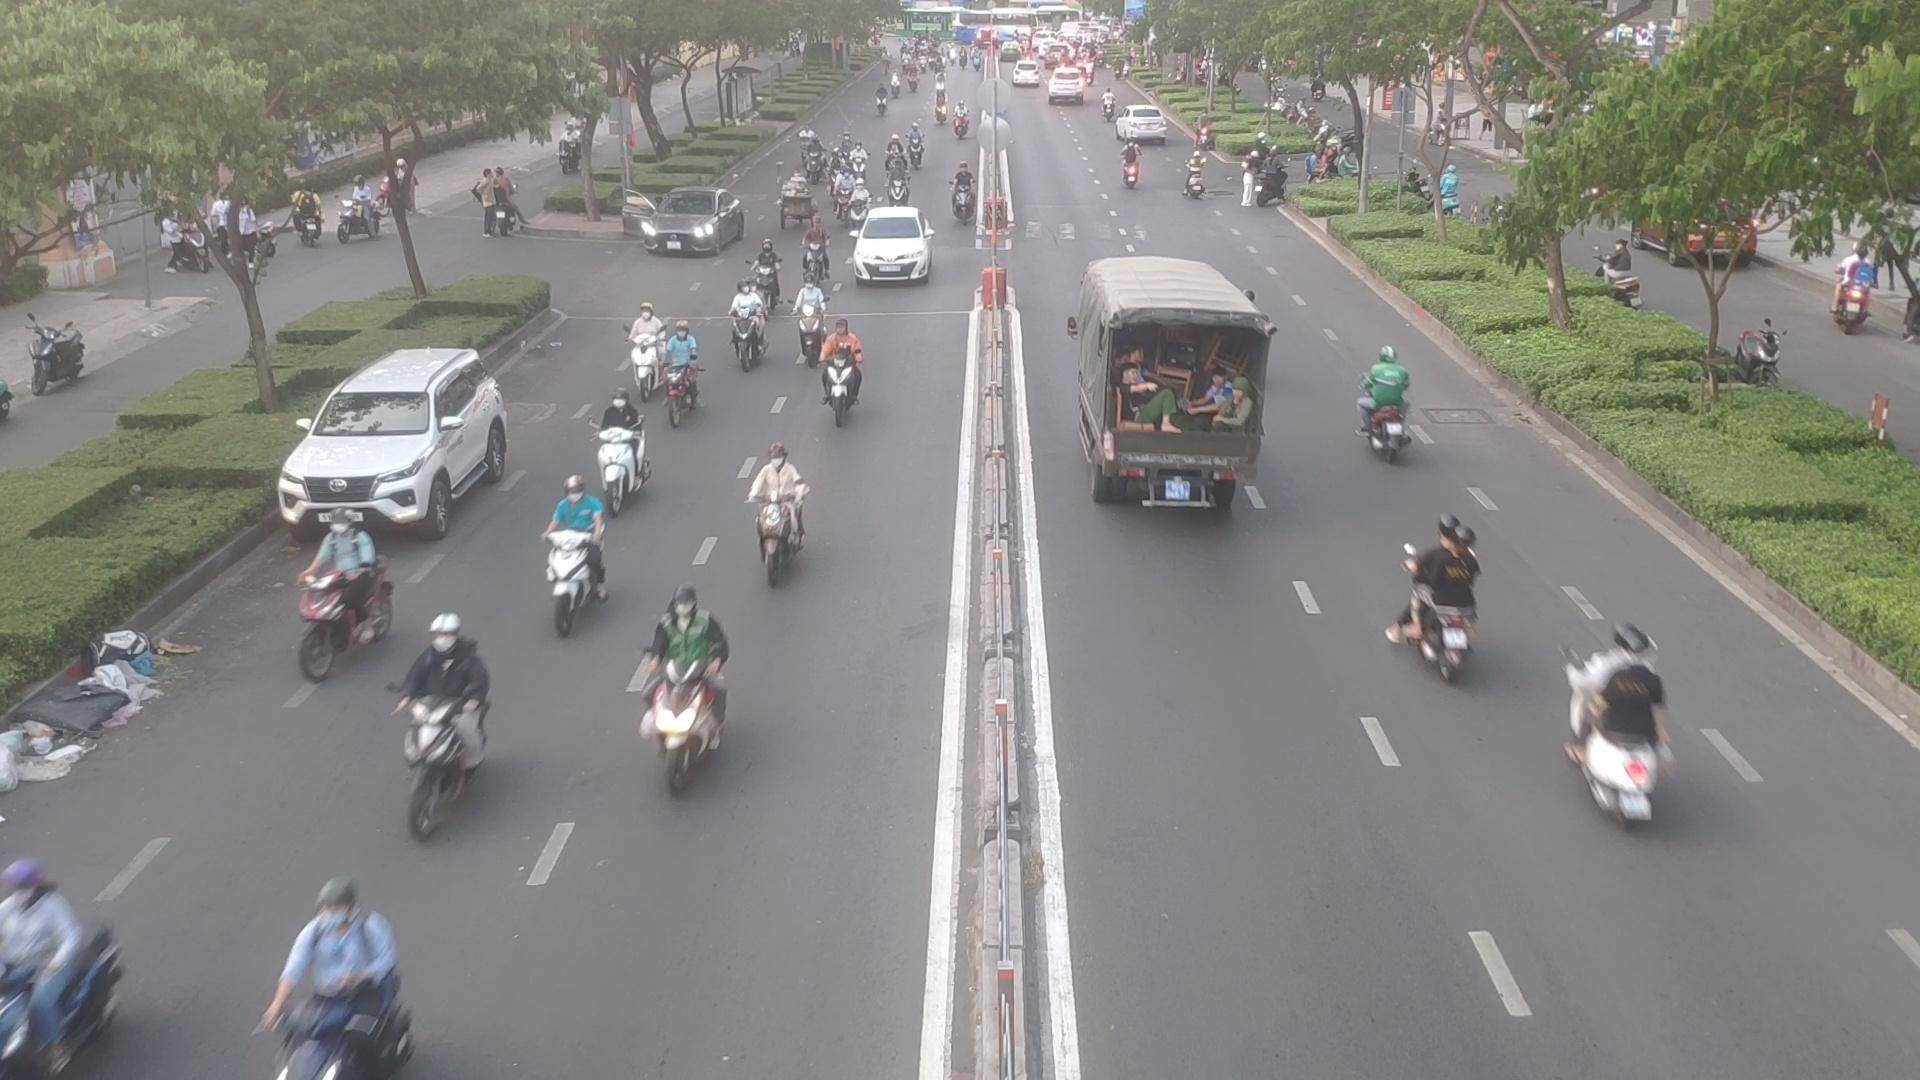car: (1062, 255, 1271, 535), (276, 345, 516, 538), (622, 190, 737, 253), (847, 211, 930, 286)
motorbike: (251, 910, 411, 1080), (0, 853, 112, 1080), (1573, 616, 1664, 814), (1399, 518, 1490, 698), (651, 583, 725, 789), (417, 605, 473, 837), (535, 489, 607, 637), (316, 524, 372, 673), (1364, 334, 1411, 464), (757, 458, 804, 583), (822, 311, 870, 419), (661, 332, 717, 419), (607, 390, 647, 509), (783, 290, 827, 367), (622, 315, 659, 400), (735, 291, 760, 380), (803, 227, 833, 276), (951, 164, 977, 214), (1116, 141, 1141, 189), (1182, 144, 1204, 196), (756, 244, 775, 301), (887, 166, 910, 214), (852, 181, 868, 229), (886, 131, 905, 171), (806, 138, 823, 182), (913, 127, 928, 165), (793, 124, 808, 156), (837, 173, 848, 215), (855, 142, 869, 173)
